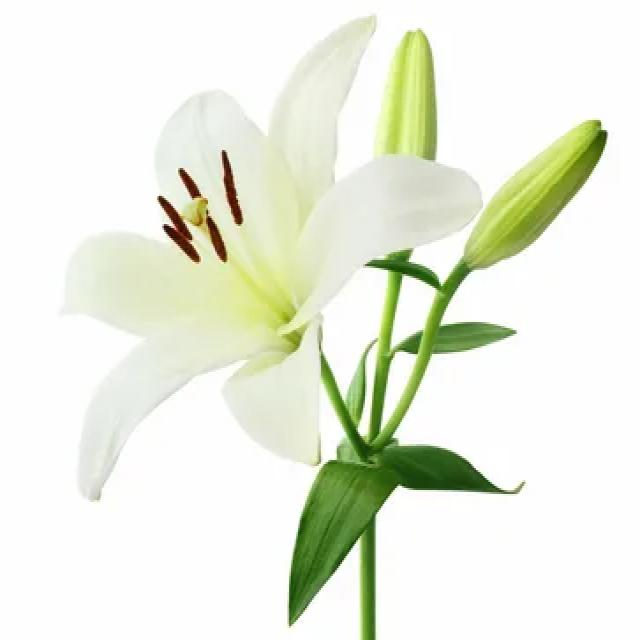lily: (46, 11, 488, 512)
